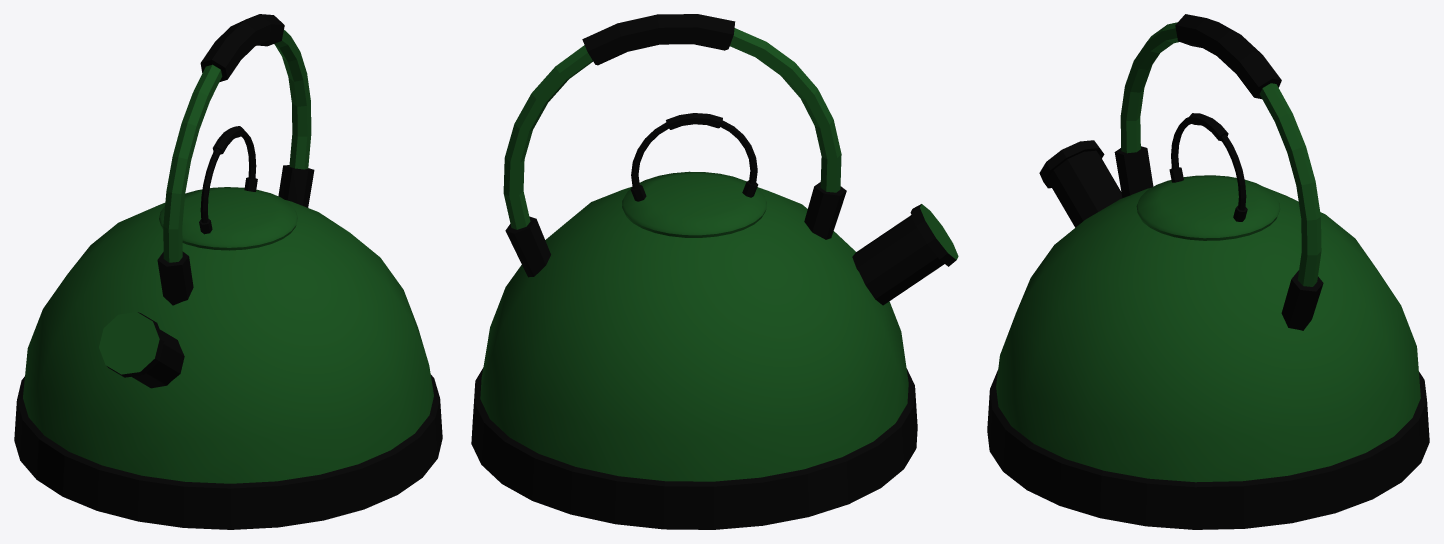
Rendered from Kitchen_Kettle.FBX.
The picture shows the model from 3 angles, left to right: view 1: azimuth 30°, elevation 25°; view 2: azimuth 150°, elevation 25°; view 3: azimuth 270°, elevation 25°; orthographic projection. The views are drawn at different scales.
Parts seen in each view (by area): view 1: Kitchen_Kettle; view 2: Kitchen_Kettle; view 3: Kitchen_Kettle.
Part boxes in pixels (box(x1,y1,x2,y2)): Kitchen_Kettle: box(14, 14, 442, 529); Kitchen_Kettle: box(471, 14, 958, 529); Kitchen_Kettle: box(987, 14, 1429, 529).
Size of the model in its own units: 0.2322 by 0.2411 by 0.2313.
